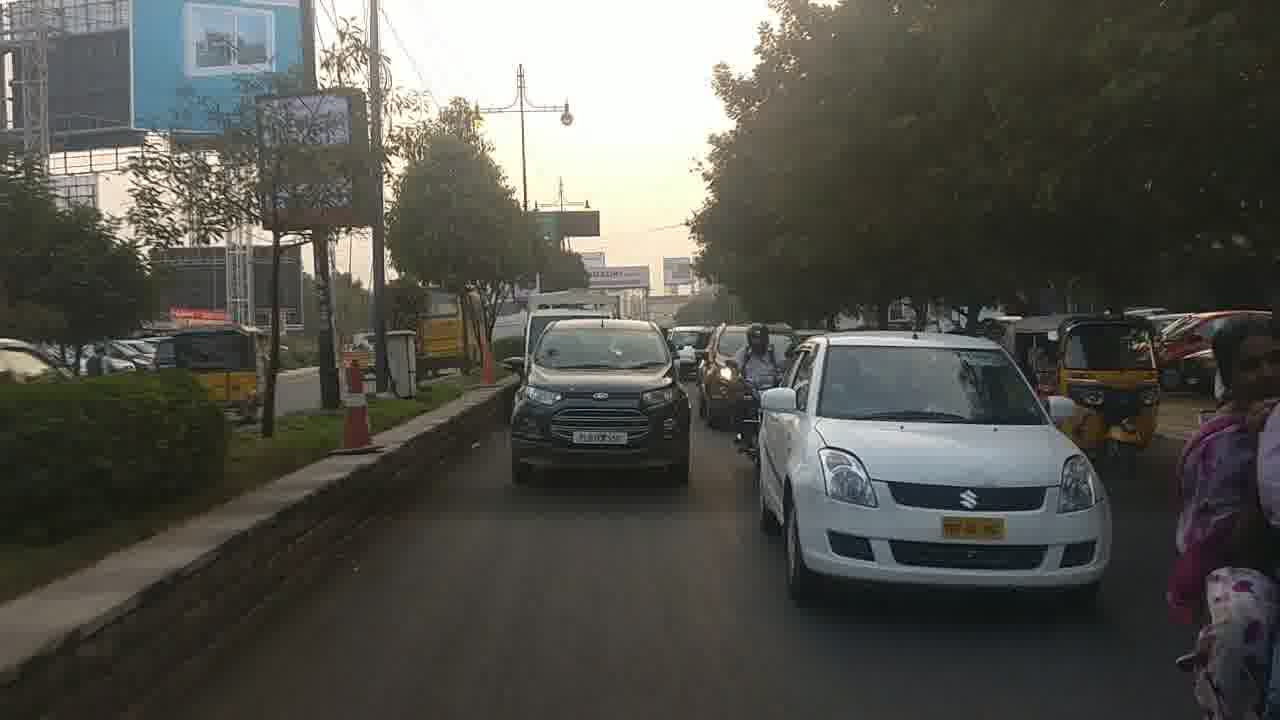swift desire: (762, 339, 1109, 588)
